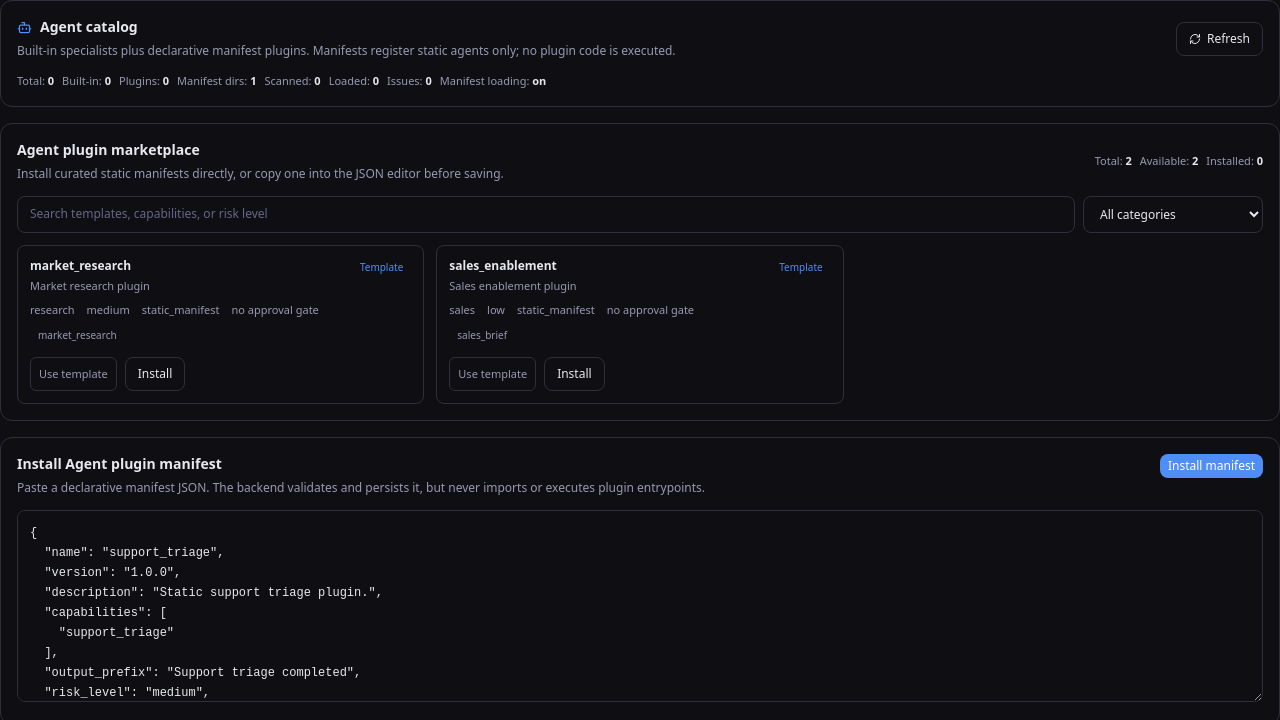
AgentCatalogPanel › filters marketplace templates by search query and category
Check: the number of elements with test id "settings-agent-plugin-marketplace-row" is 2, box [17,244,424,404]; [436,244,844,404]
Type "sales" into the field with test id "settings-agent-plugin-marketplace-query".
click(546, 214); type("sales")  # box [17,196,1075,232]
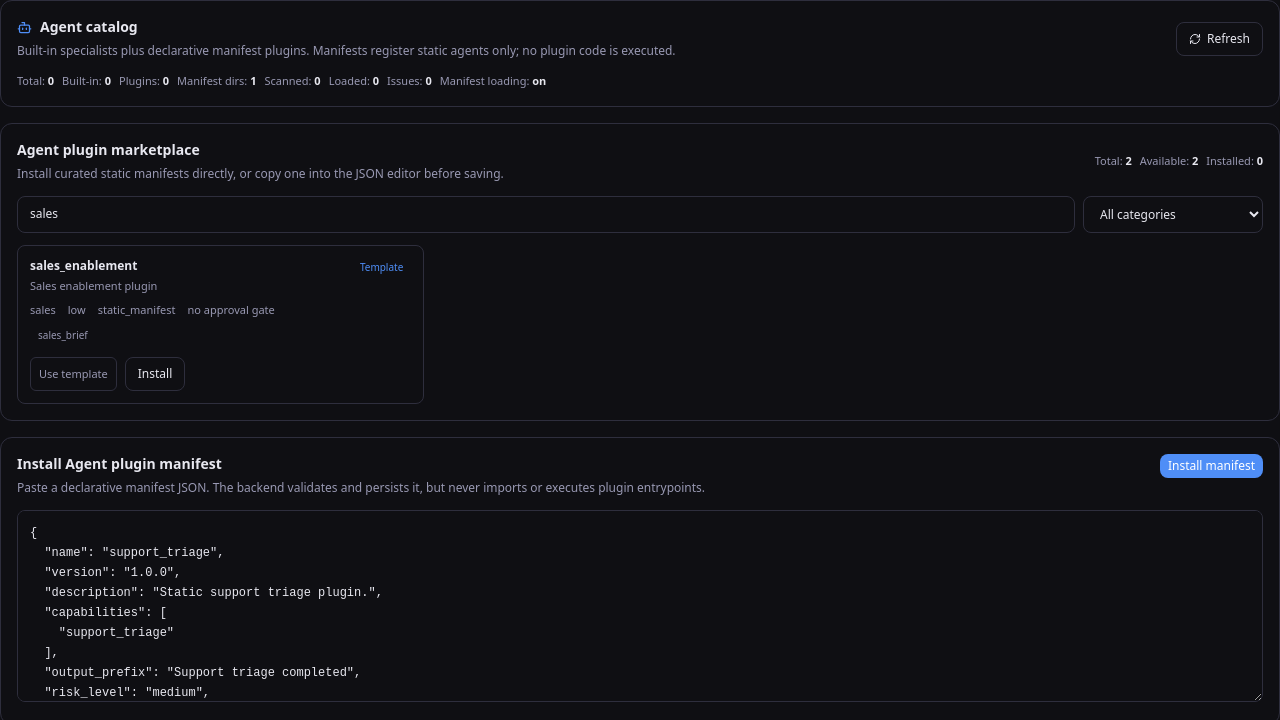
Check: the heading "sales_enablement" is shown, box [30,256,137,274]
Check: the heading "market_research" is gone
Select "research" in the dropdown with test id "settings-agent-plugin-marketplace-category" at (1173, 214), box [1083,196,1263,232]
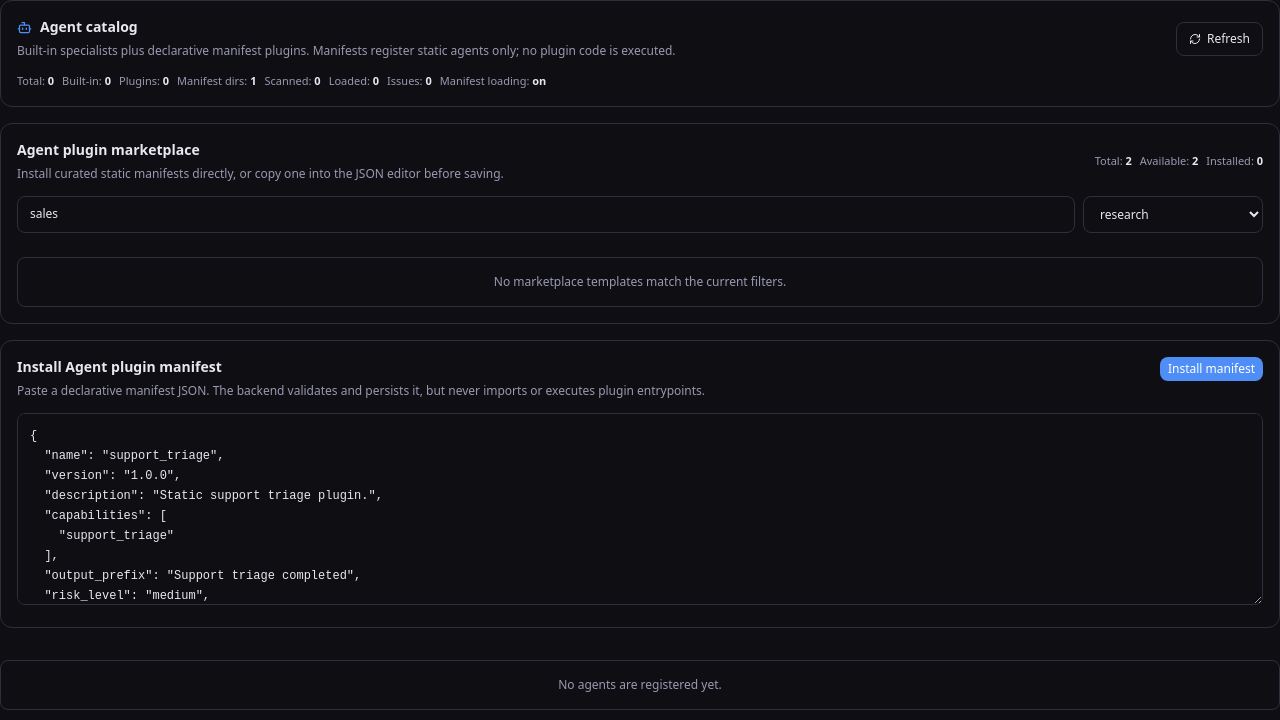
Check: the text "No marketplace templates match the current filters." is shown, box [17,256,1263,306]
Clear the field with test id "settings-agent-plugin-marketplace-query" at (546, 214), box [17,196,1075,232]
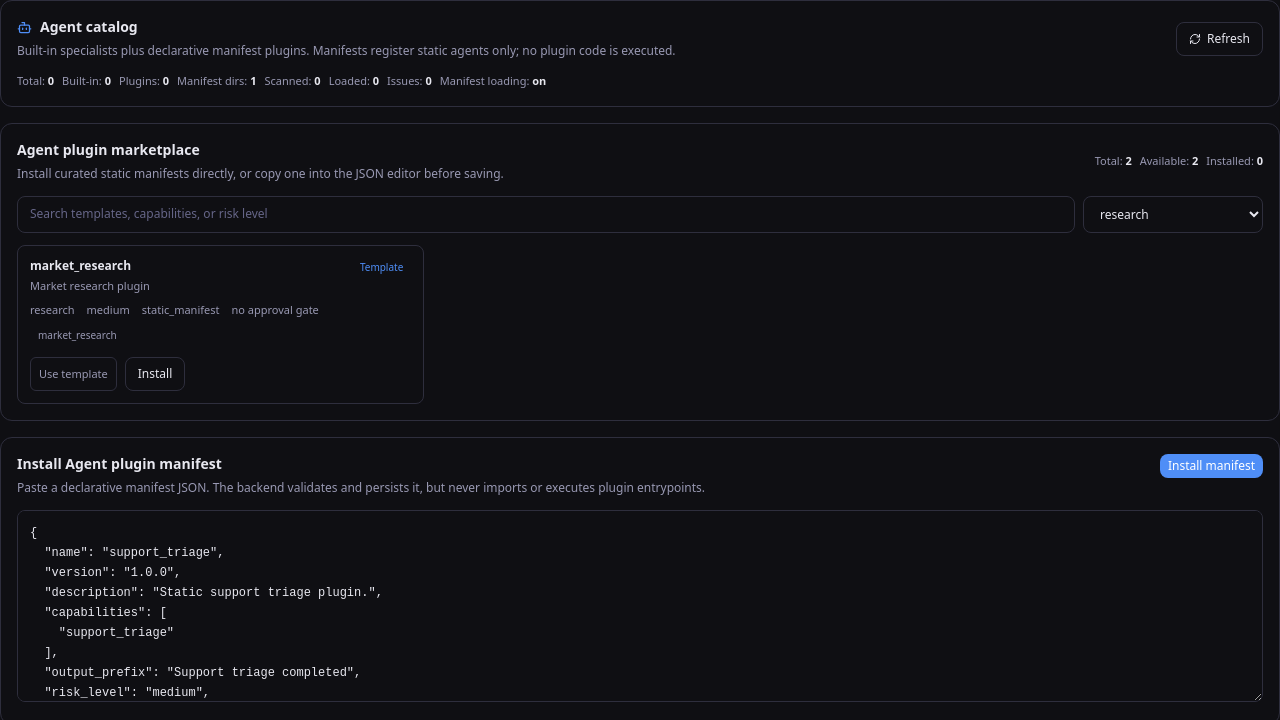
Check: the heading "market_research" is shown, box [30,256,131,274]
